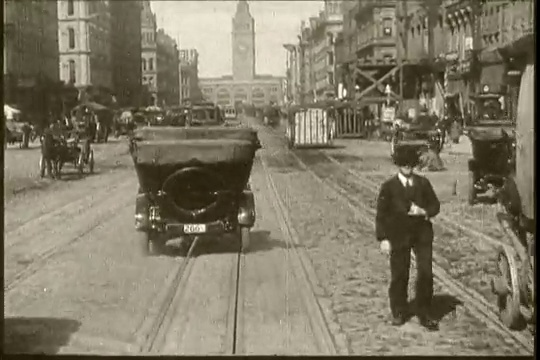car: (107, 115, 259, 264)
carriage: (278, 101, 337, 149)
